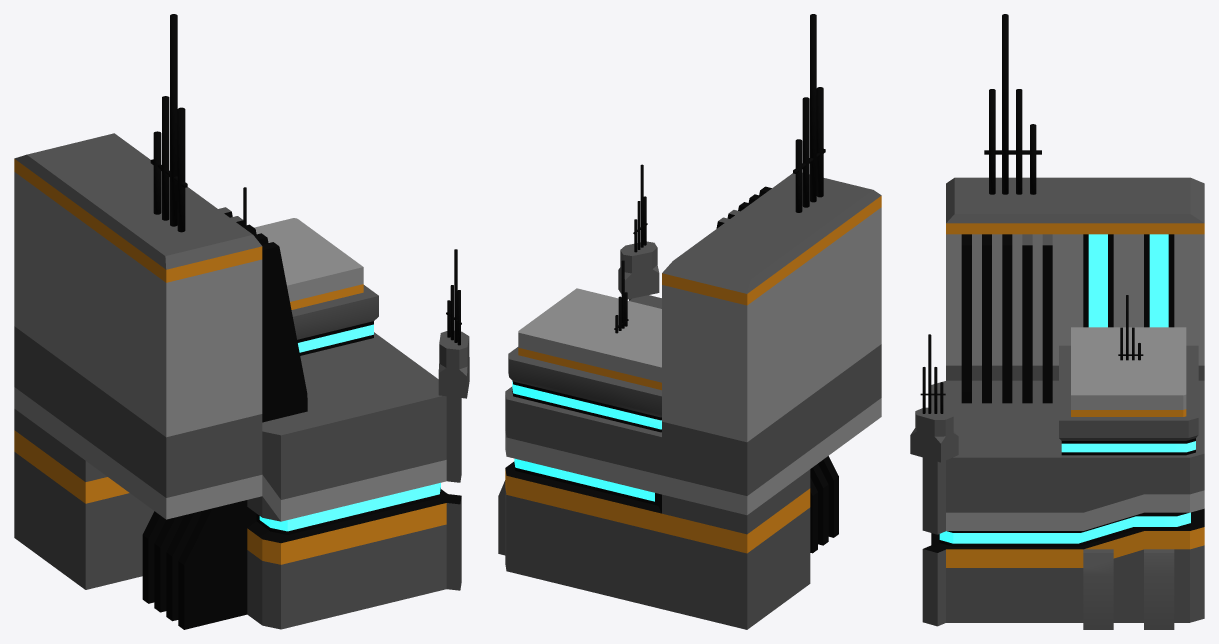
File: Environment2_Wall_Building2.fbx
The picture shows the model from 3 angles, left to right: view 1: azimuth 30°, elevation 25°; view 2: azimuth 150°, elevation 25°; view 3: azimuth 270°, elevation 25°; orthographic projection. The views are drawn at different scales.
Parts seen in each view (by area): view 1: Building 2; view 2: Building 2; view 3: Building 2.
Part boxes in pixels (left/top/right/bottom): Building 2: left=14, top=14, right=469, bottom=629; Building 2: left=498, top=14, right=881, bottom=629; Building 2: left=910, top=14, right=1204, bottom=629.
Size of the model in its own units: 3238 by 6156 by 3230.
